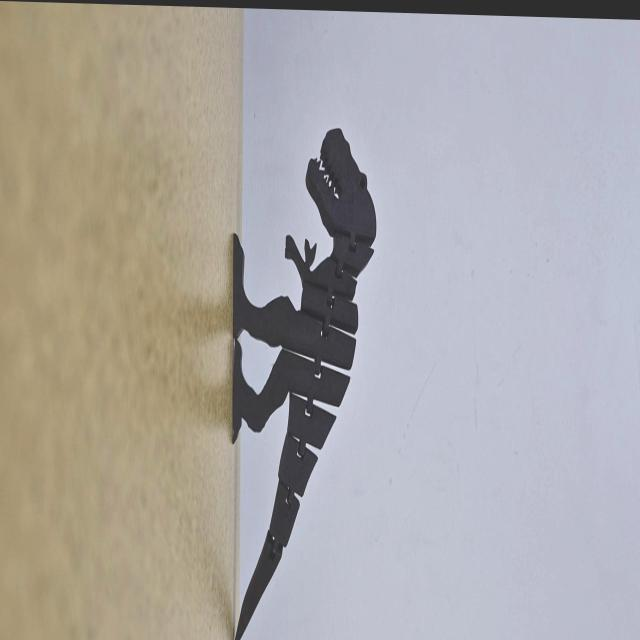dino: (231, 122, 377, 640)
